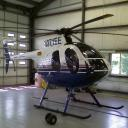helicopter: (1, 28, 128, 122)
